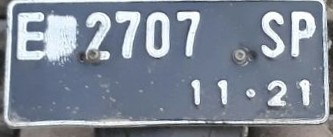plate: (6, 1, 333, 127)
